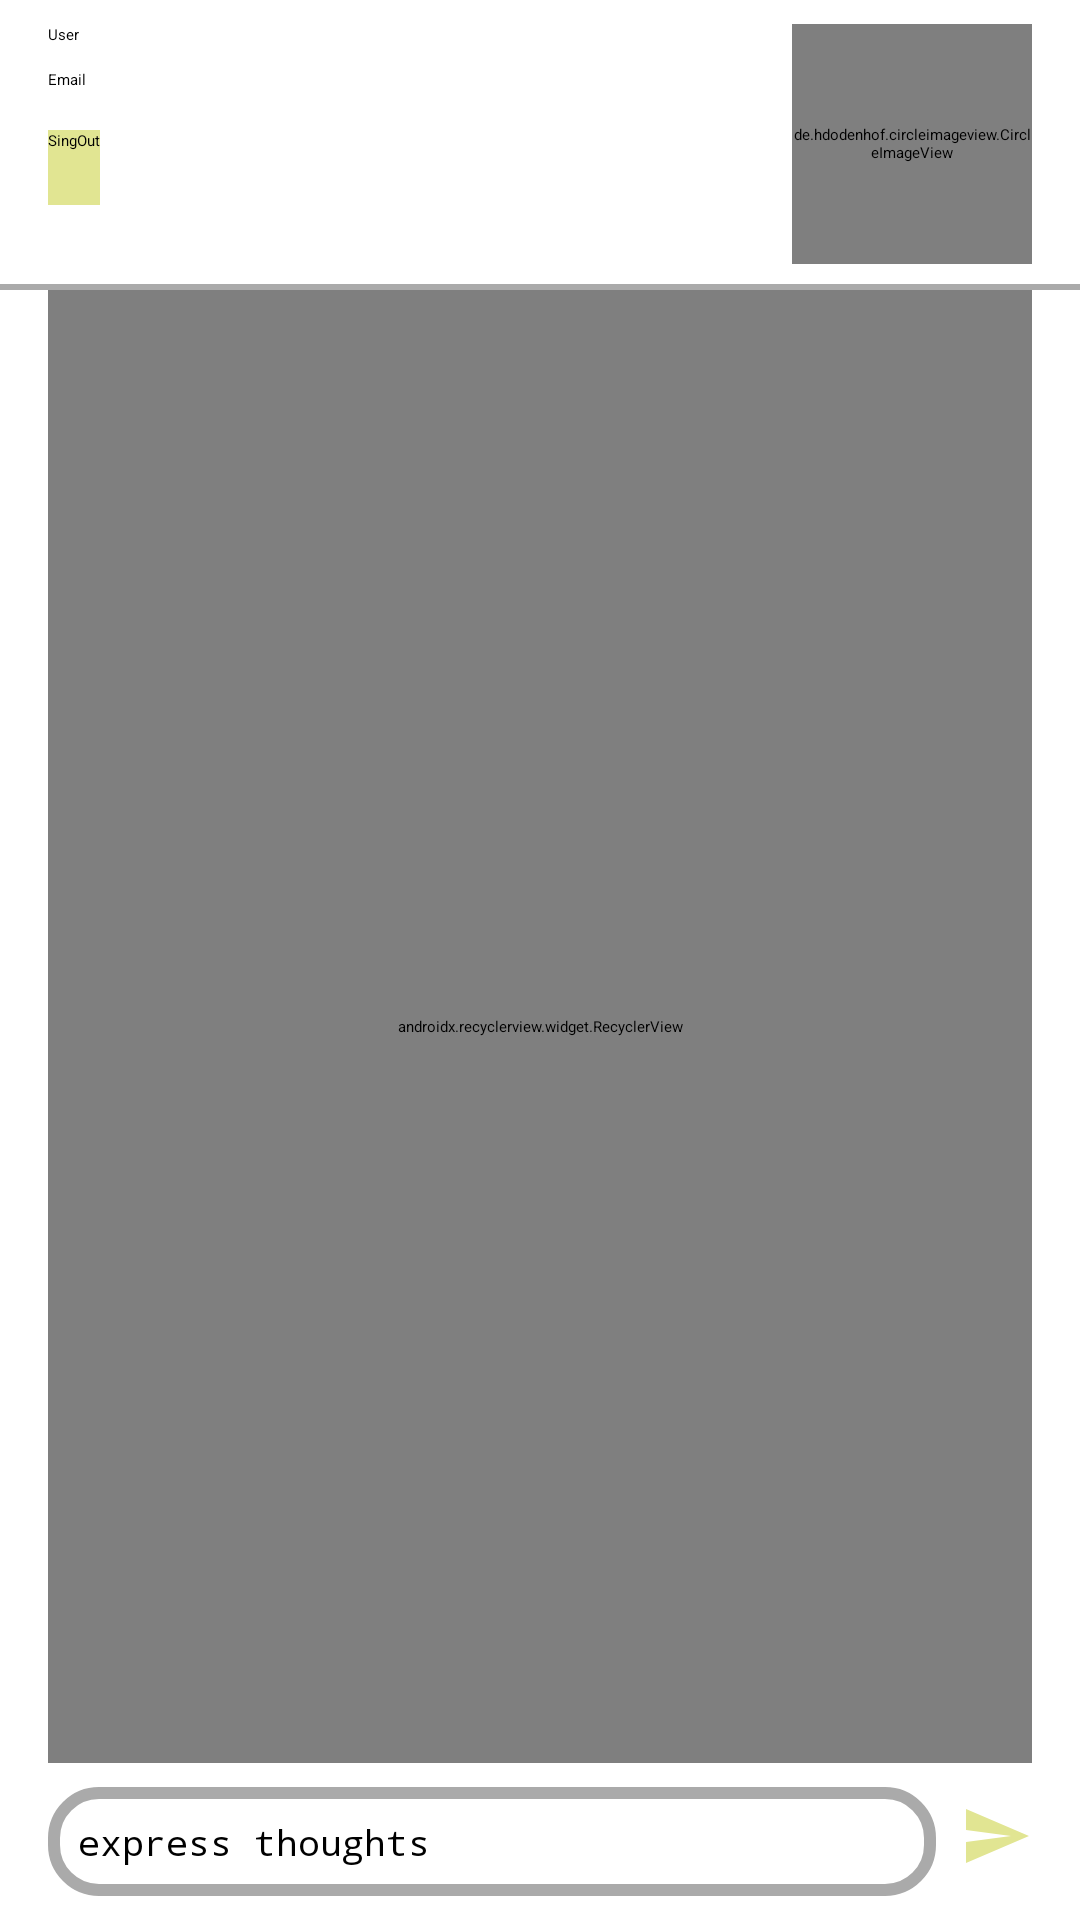

Icon click points for this 1080×1920 phone screenshot, format (x,y):
send comment: (997,1836)
